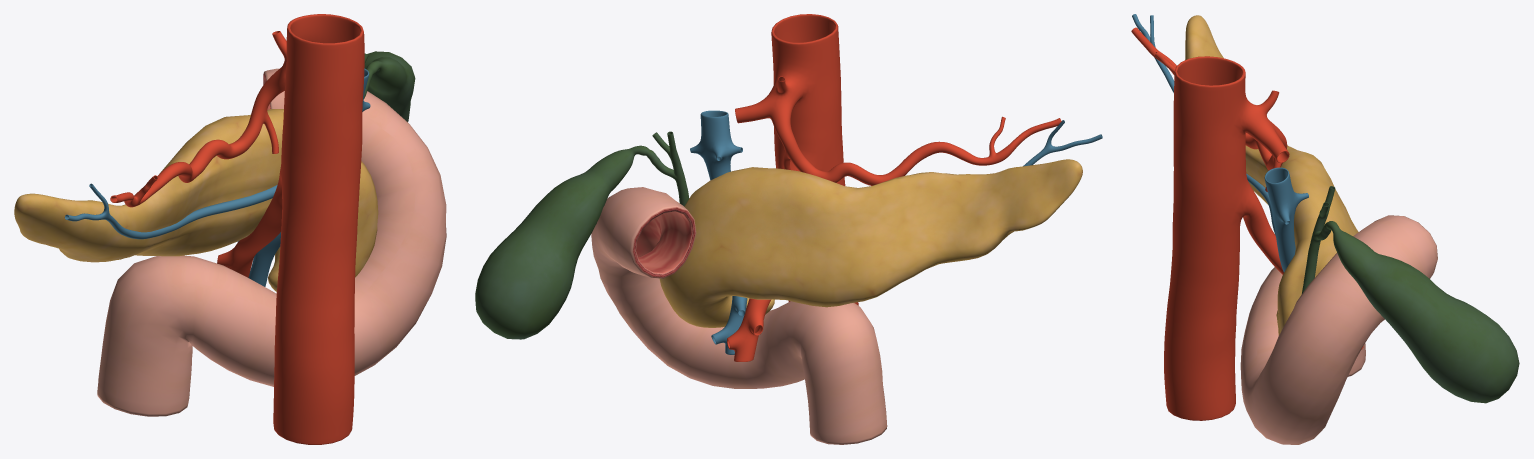
File: pancreas1.glb
The picture shows the model from 3 angles, left to right: view 1: azimuth 30°, elevation 25°; view 2: azimuth 150°, elevation 25°; view 3: azimuth 270°, elevation 25°; orthographic projection. The views are drawn at different scales.
Parts seen in each view (by area): view 1: pancrArtery, duodenum, pancreas, pancrVein, gallbladder; view 2: pancreas, duodenum, pancrArtery, gallbladder, pancrVein; view 3: pancrArtery, duodenum, gallbladder, pancreas, pancrVein.
Boxes of the visible parts, x1,y1,x2,y2 form: pancrArtery: (110,14,364,444); duodenum: (97,68,446,416); pancreas: (14,109,378,291); pancrVein: (64,68,370,286); gallbladder: (363,51,415,121); pancreas: (659,159,1082,327); duodenum: (591,187,887,444); pancrArtery: (727,14,1061,361); gallbladder: (475,131,689,339); pancrVein: (690,110,1102,354); pancrArtery: (1131,27,1363,420); duodenum: (1240,215,1437,444); gallbladder: (1302,186,1519,403); pancreas: (1185,15,1358,335); pancrVein: (1132,14,1308,272).
Size of the model in its own units: 6.05 by 4.23 by 4.32.
5 materials, 3 textured.
